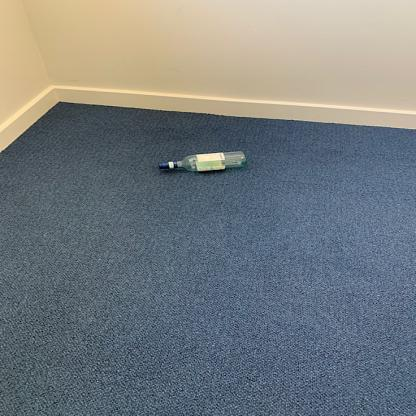trash: (156, 149, 246, 176)
